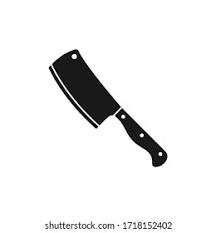Knife: (48, 48, 167, 167)
